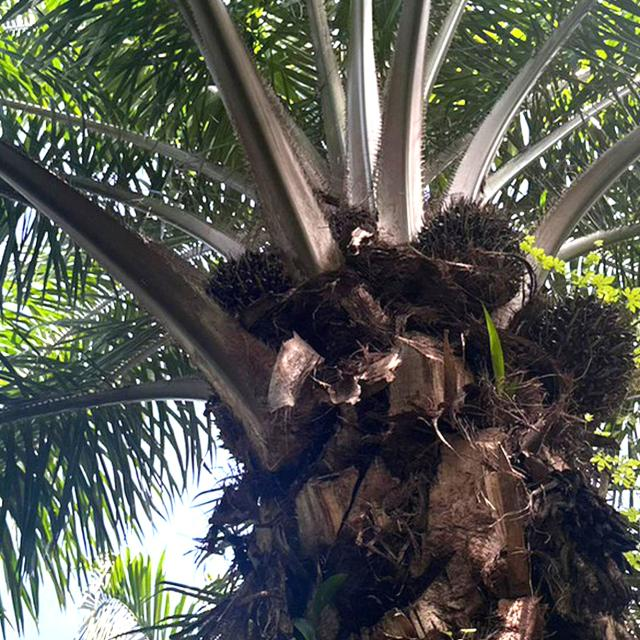ripe: (414, 192, 524, 289), (205, 238, 312, 320)
